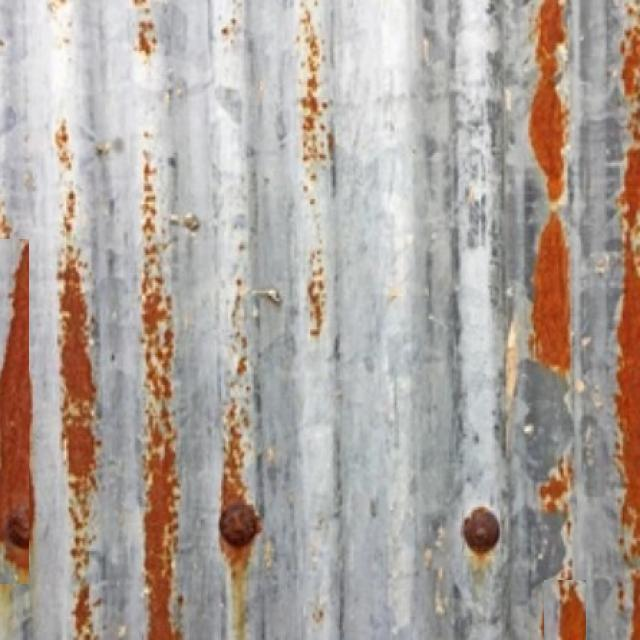Corrosion: (140, 167, 182, 640), (618, 0, 640, 572), (0, 244, 34, 582), (58, 248, 96, 496), (531, 0, 568, 200), (219, 400, 262, 566), (298, 0, 332, 184), (535, 212, 572, 372), (543, 569, 588, 640), (539, 456, 574, 516), (463, 508, 501, 562)
